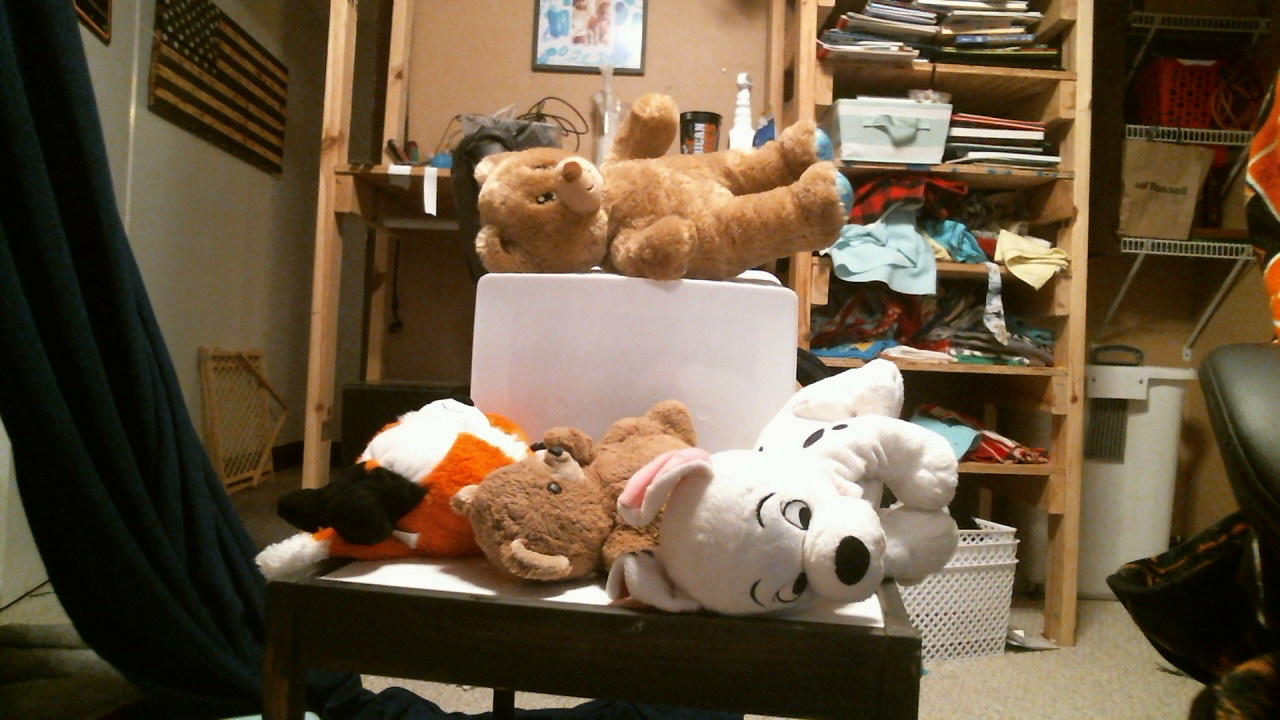Little_Mister_Bear: (526, 452, 601, 512)
